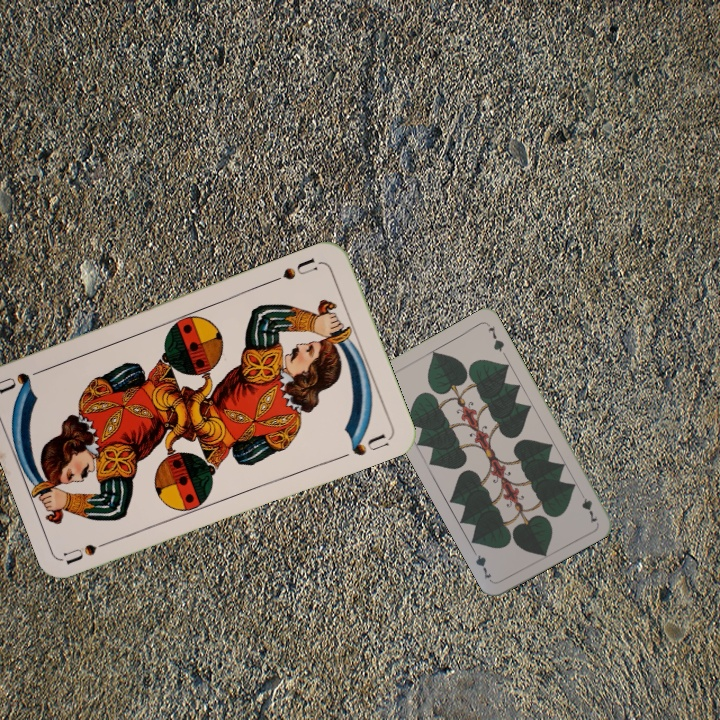G7: (575, 486, 600, 526)
SU: (61, 534, 119, 567), (267, 254, 320, 285)
